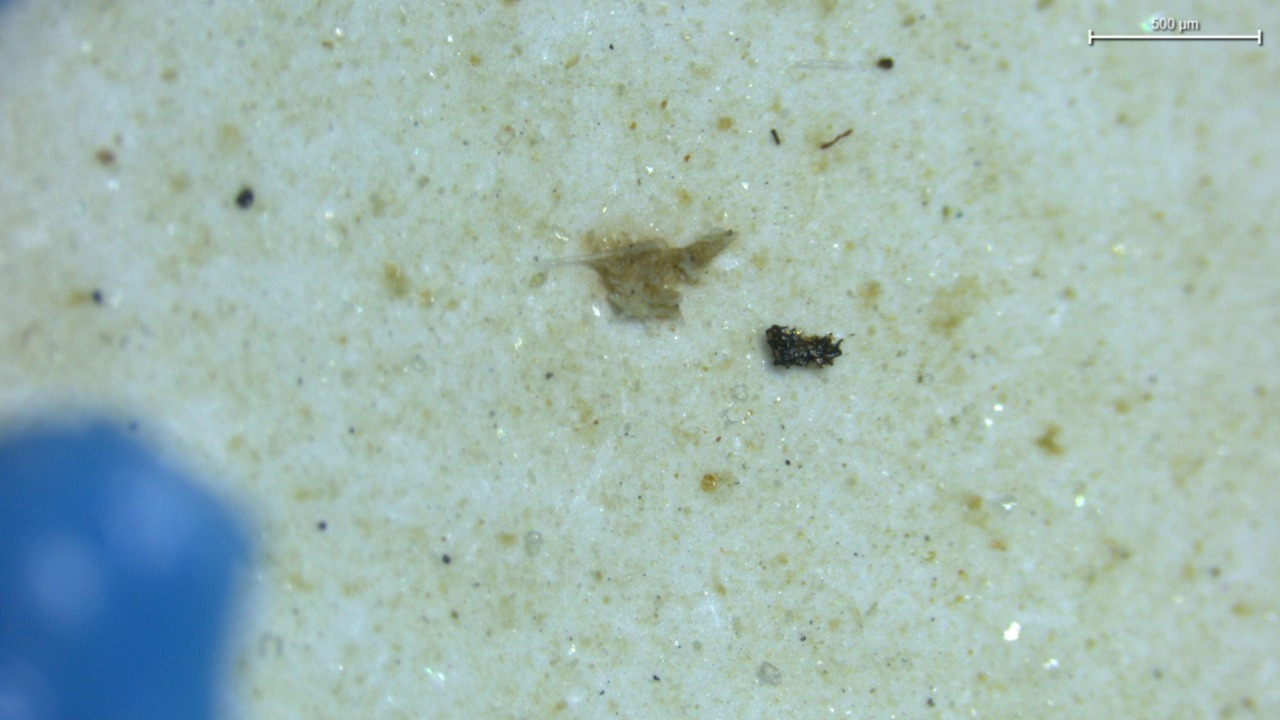microplastic_fragment: (766, 325, 842, 368)
